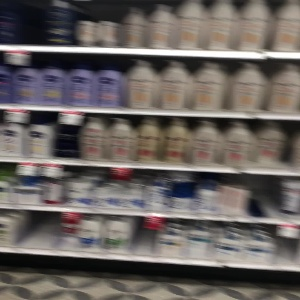void: (24, 213, 80, 252), (251, 175, 300, 217), (273, 228, 300, 262), (134, 217, 155, 257)
